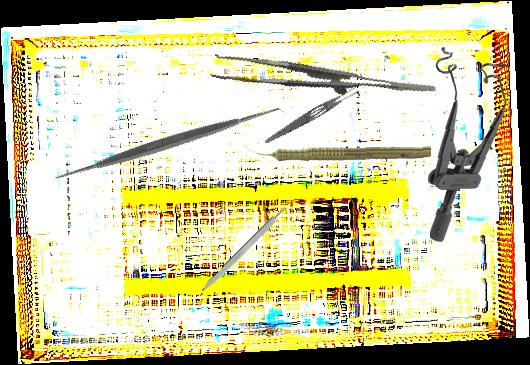Dressing Forceps: (262, 82, 363, 149)
Handpiece: (243, 139, 432, 165)
Scalpel Handle: (200, 205, 289, 295)
Spatula Surgical: (44, 19, 292, 268)
Speculum: (423, 42, 513, 244)
Tissue Forceps: (209, 33, 437, 130)
